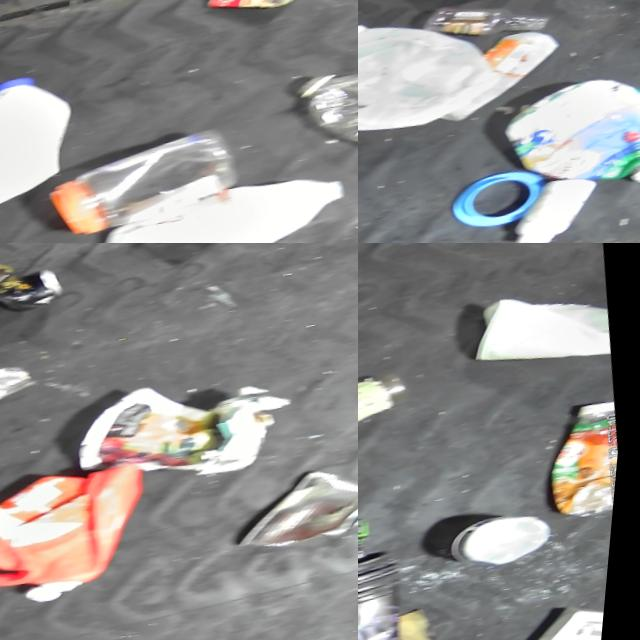can: (232, 461, 358, 568), (0, 249, 71, 327), (202, 0, 323, 29)
milk_jug: (358, 0, 507, 160), (90, 167, 358, 243), (0, 61, 95, 231)
non_white_jug: (0, 455, 167, 633), (499, 70, 640, 218)
plastic_bottle: (288, 37, 358, 186)
